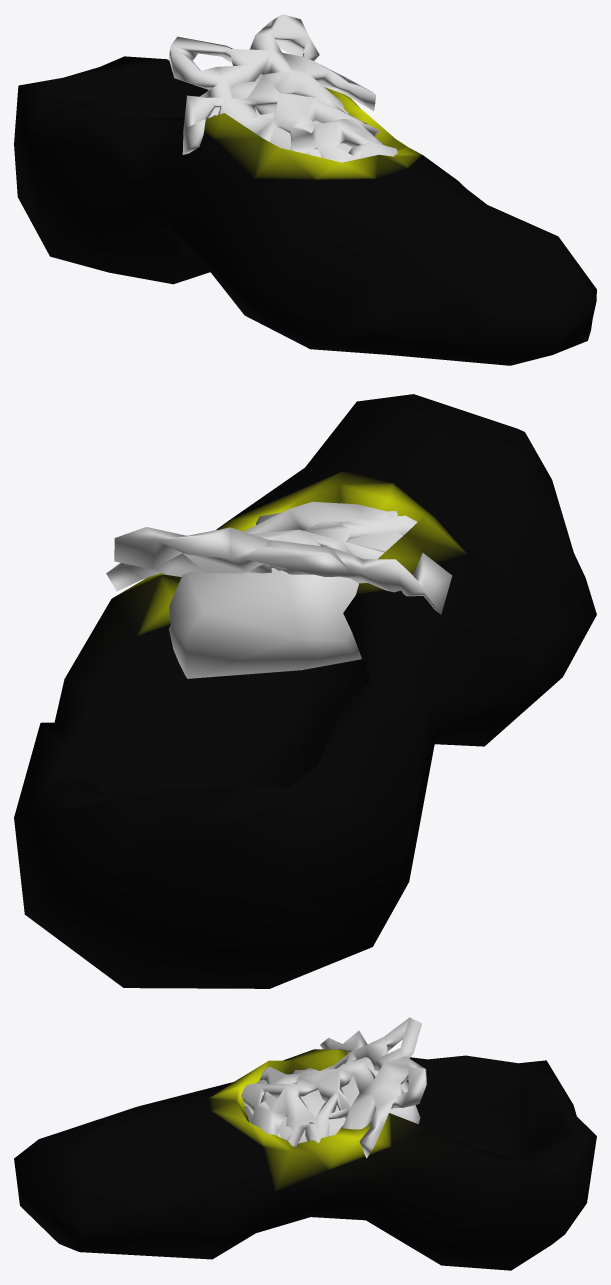
The model's file is mshoe2.fbx.
3 views of the same model, one above another, from view 1: azimuth 30°, elevation 25°; view 2: azimuth 150°, elevation 25°; view 3: azimuth 270°, elevation 25° (orthographic). The views are drawn at different scales.
Parts seen in each view (by area): view 1: base, lace, tongue; view 2: base, tongue, lace; view 3: base, lace, tongue.
Part boxes in pixels (x1=…): base: x1=14, y1=56, x2=596, y2=365; lace: x1=168, y1=14, x2=397, y2=162; tongue: x1=207, y1=76, x2=380, y2=157; base: x1=14, y1=394, x2=596, y2=988; tongue: x1=169, y1=531, x2=402, y2=678; lace: x1=106, y1=501, x2=452, y2=614; base: x1=14, y1=1049, x2=596, y2=1270; lace: x1=241, y1=1017, x2=426, y2=1158; tongue: x1=244, y1=1057, x2=420, y2=1143.
Bounding box in the file's own units: 0.038 × 0.0781 × 0.032.
